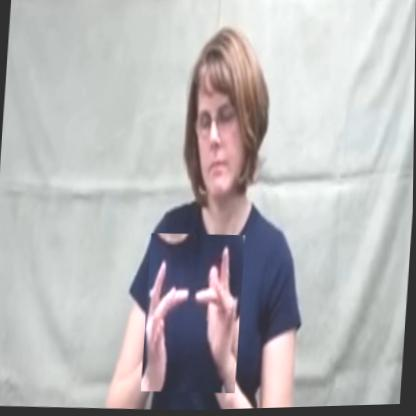Internet: (141, 232, 245, 397)
